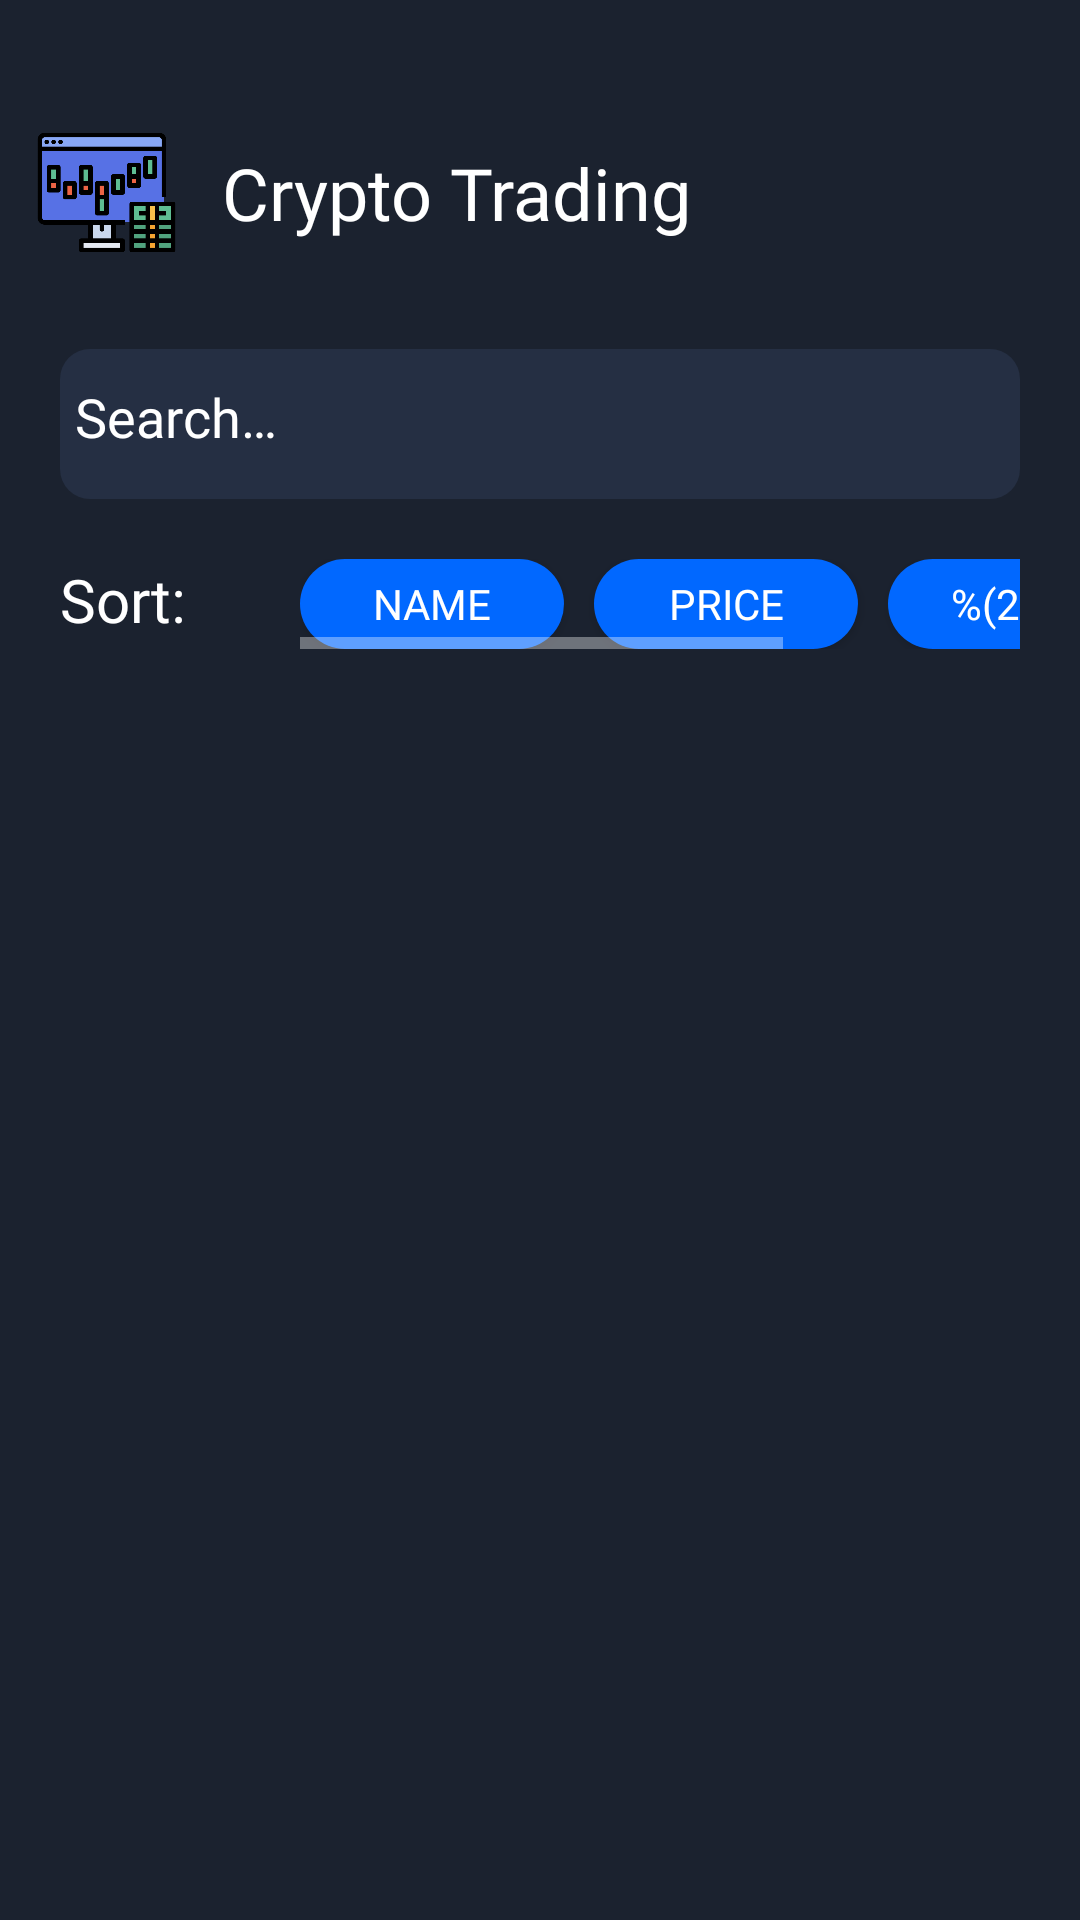

Named icons in this screenshot (1080 x 1920) and their centers, (x=x, y=y):
investment: (x=106, y=192)
